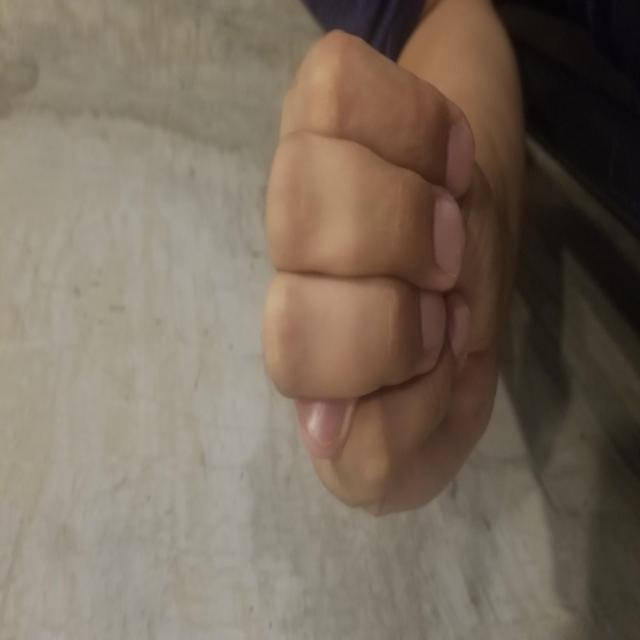M: (128, 262, 612, 501)
